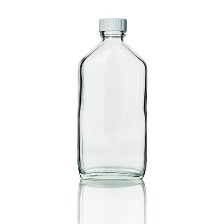bottle: (74, 14, 153, 183), (70, 177, 149, 223)
